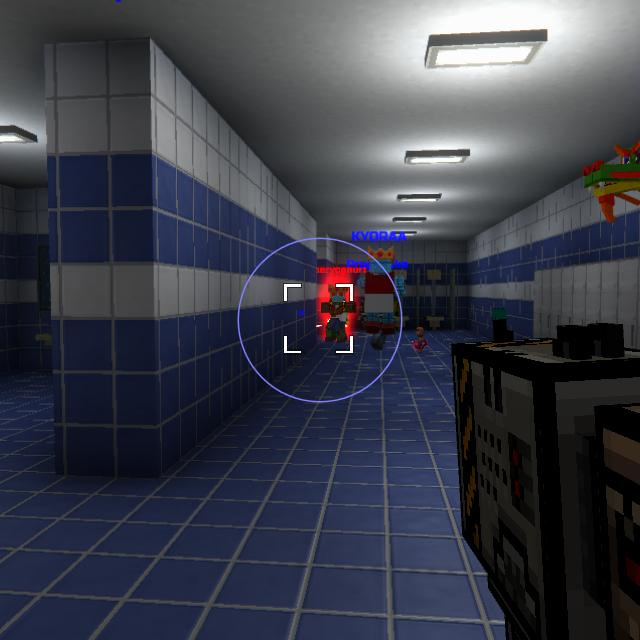Enemy: (320, 286, 355, 343)
